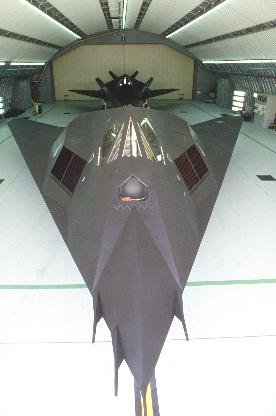E7: (6, 76, 242, 416), (68, 70, 179, 110)
